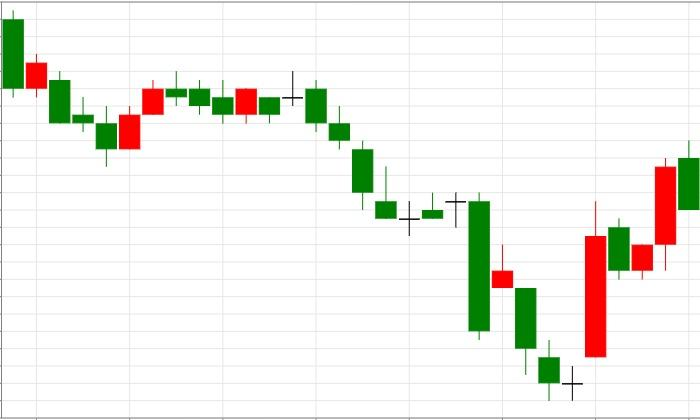morning_star_rise: (282, 69, 606, 401)
